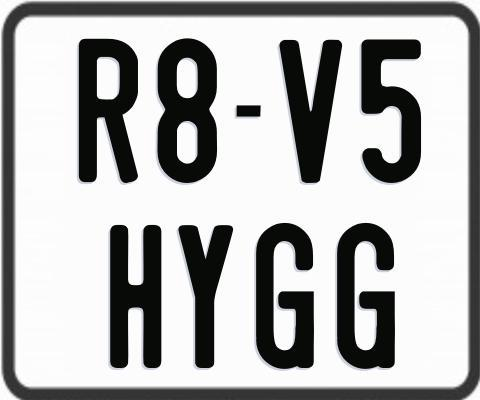5: (359, 36, 422, 184)
8: (155, 38, 221, 183)
G: (335, 220, 396, 372), (256, 220, 314, 370)
H: (108, 225, 162, 371)
R: (78, 36, 141, 186)
V: (277, 39, 345, 188)
Y: (176, 223, 233, 372)
